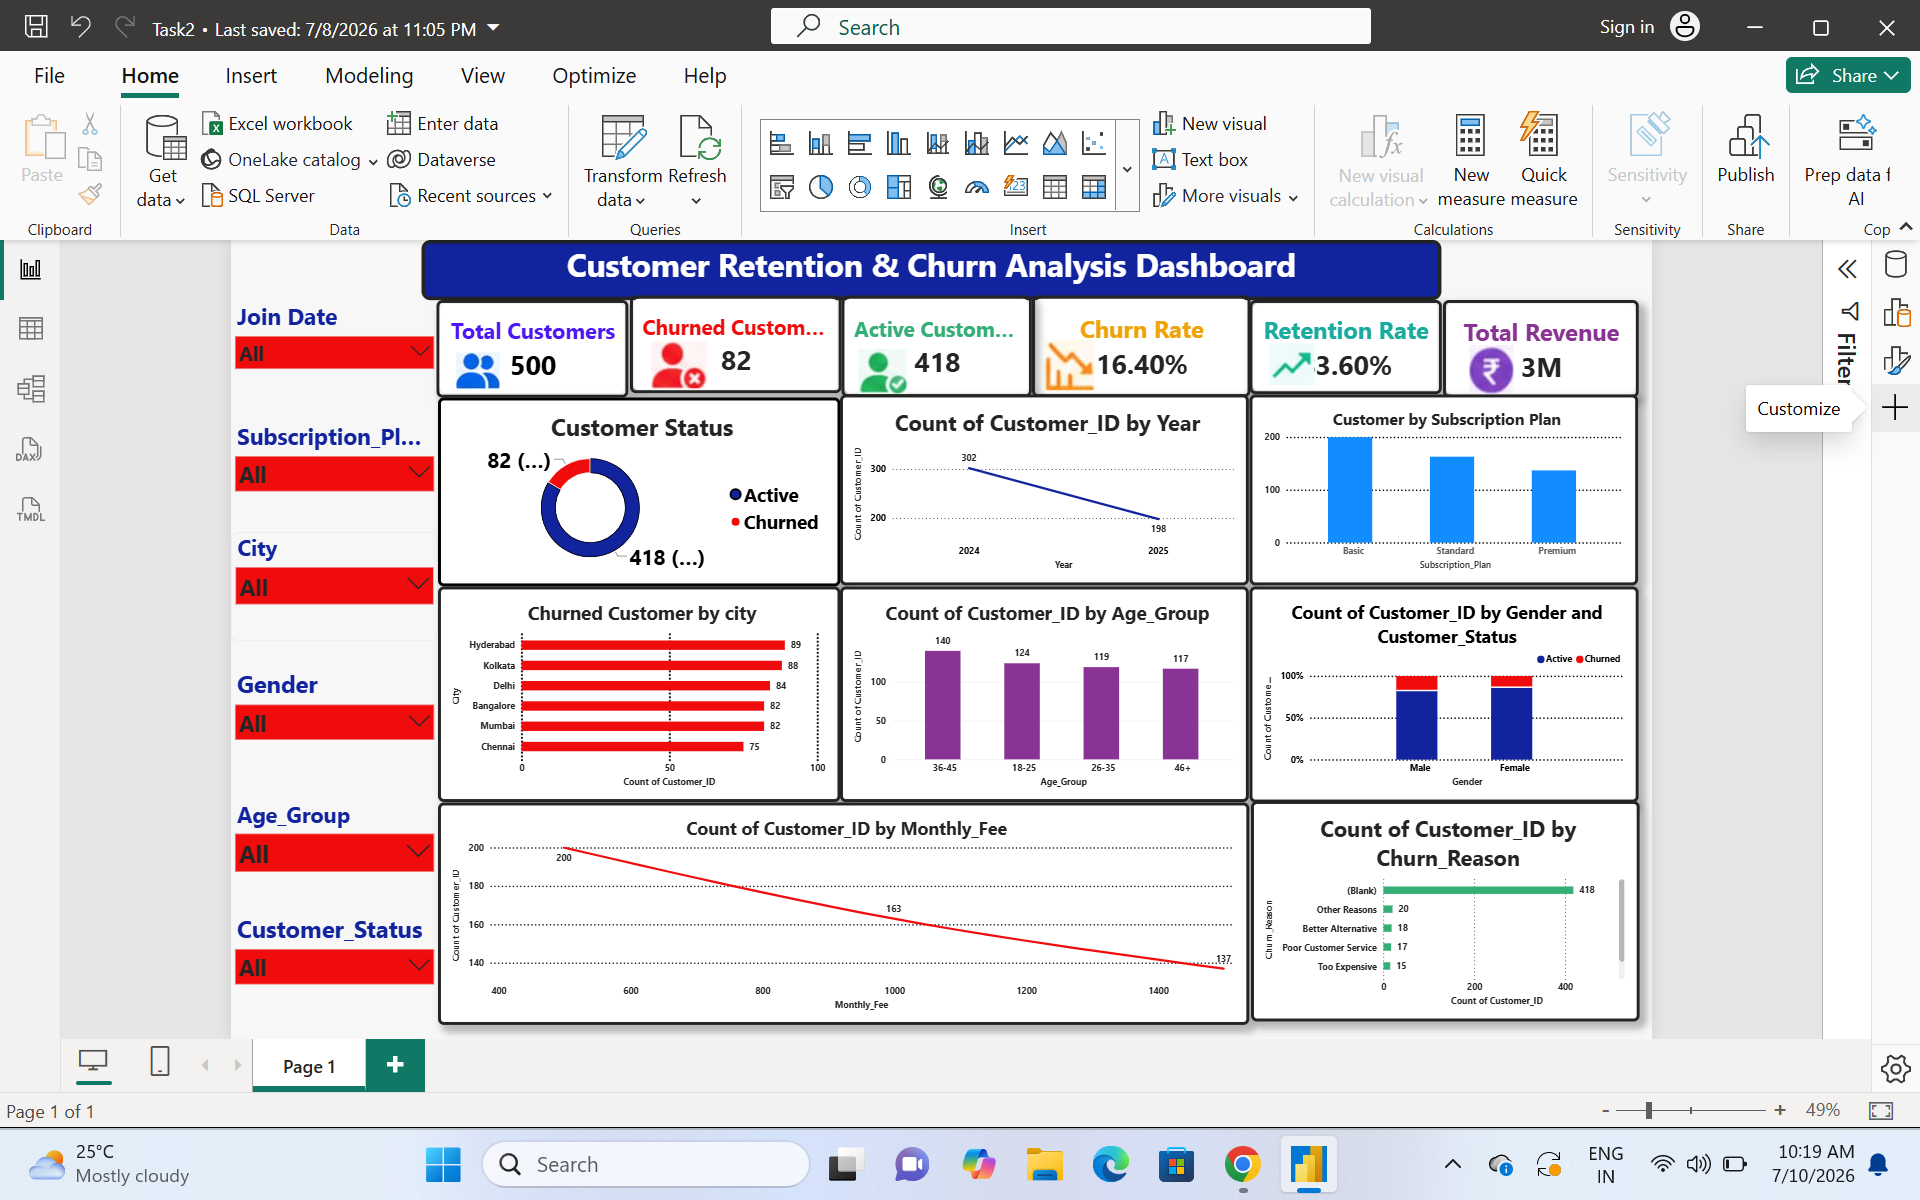

This screenshot's page, from the dashboard's own definition file:
{"tool":"powerbi","page":{"name":"Page 1","canvas":[1920,1080],"ordinal":0},"visuals":[{"type":"textbox","box":[257.5,0,1378.8,81.1],"z":1},{"type":"slicer","fields":{"Values":["CustomerData.Join_Date"]},"box":[0,82,279.5,161],"z":3},{"type":"cardVisual","fields":{"Data":["CustomerData.Total Customers"]},"box":[277.8,81.1,259.5,131.8],"z":4},{"type":"cardVisual","fields":{"Data":["CustomerData.Churned Customers"]},"box":[538.7,75.6,285.9,132.3],"z":5},{"type":"cardVisual","fields":{"Data":["CustomerData.Churn Rate"]},"box":[1082.1,75.6,295.3,137],"z":6},{"type":"cardVisual","fields":{"Data":["CustomerData.Retention Rate"]},"box":[1377.4,80.3,259.9,127.6],"z":7},{"type":"cardVisual","fields":{"Data":["CustomerData.Total Revenue"]},"box":[1637.3,80.3,264.6,132.3],"z":8},{"type":"cardVisual","fields":{"Data":["CustomerData.Active Customers"]},"box":[824.6,75.6,257.5,137],"z":9},{"type":"slicer","fields":{"Values":["CustomerData.Subscription_Plan"]},"box":[0,243,279.5,164.1],"z":10},{"type":"slicer","fields":{"Values":["CustomerData.City"]},"box":[0,394.9,279.5,145.8],"z":11},{"type":"slicer","fields":{"Values":["CustomerData.Gender"]},"box":[0,577.2,279.5,179.2],"z":12},{"type":"slicer","fields":{"Values":["CustomerData.Age_Group"]},"box":[0,756.5,279.5,182.3],"z":13},{"type":"slicer","fields":{"Values":["CustomerData.Customer_Status"]},"box":[0,908.4,279.5,151.9],"z":14},{"type":"donutChart","title":"Customer Status","fields":{"Category":["CustomerData.Customer_Status"],"Y":["CountNonNull(CustomerData.Customer_ID)"]},"box":[279.5,212.7,543.8,255.2],"z":15},{"type":"lineChart","fields":{"Category":["CustomerData.Join_Date.Variation.Date Hierarchy.Year","CustomerData.Join_Date.Variation.Date Hierarchy.Month"],"Y":["CountNonNull(CustomerData.Customer_ID)"]},"box":[823.3,209.6,552.9,258.2],"z":16},{"type":"clusteredColumnChart","title":" Customer by Subscription Plan","fields":{"Category":["CustomerData.Subscription_Plan"],"Y":["CountNonNull(CustomerData.Customer_ID)"]},"box":[1376.2,209.6,525.6,258.2],"z":17},{"type":"clusteredBarChart","title":"Churned Customer by city","fields":{"Category":["CustomerData.City"],"Y":["CountNonNull(CustomerData.Customer_ID)"]},"box":[279.5,467.8,543.8,291.6],"z":18},{"type":"columnChart","fields":{"Category":["CustomerData.Age_Group"],"Y":["CountNonNull(CustomerData.Customer_ID)"]},"box":[823.3,467.8,552.9,291.6],"z":19},{"type":"hundredPercentStackedColumnChart","fields":{"Category":["CustomerData.Gender"],"Series":["CustomerData.Customer_Status"],"Y":["CountNonNull(CustomerData.Customer_ID)"]},"box":[1376,468,526,292],"z":20},{"type":"lineChart","fields":{"Category":["CustomerData.Monthly_Fee"],"Y":["CountNonNull(CustomerData.Customer_ID)"]},"box":[279.5,759.5,1096.7,300.8],"z":21},{"type":"barChart","fields":{"Category":["CustomerData.Churn_Reason"],"Y":["CountNonNull(CustomerData.Customer_ID)"]},"box":[1378.8,758.3,525.1,298.1],"z":22},{"type":"image","box":[304.8,146.5,59.1,61.4],"z":23},{"type":"image","box":[567,129.9,75.6,78],"z":24},{"type":"image","box":[848.2,139.4,66.2,75.6],"z":25},{"type":"image","box":[1098.6,129.9,68.5,78],"z":26},{"type":"image","box":[1403.4,127.6,61.4,80.3],"z":27},{"type":"image","box":[1656.2,141.8,94.5,66.2],"z":28}]}

Visuals, with their boxes on the page's 1920x1080 design canvas (x1, y1, x2, y2). These are canvas units, not pixel positions in the 1920x1200 screenshot, which may show the page scaled, cropped or inside an application window:
textbox: 258 0 1636 81
slicer - CustomerData.Join_Date: 0 82 280 243
cardVisual - CustomerData.Total Customers: 278 81 537 213
cardVisual - CustomerData.Churned Customers: 539 76 825 208
cardVisual - CustomerData.Churn Rate: 1082 76 1377 213
cardVisual - CustomerData.Retention Rate: 1377 80 1637 208
cardVisual - CustomerData.Total Revenue: 1637 80 1902 213
cardVisual - CustomerData.Active Customers: 825 76 1082 213
slicer - CustomerData.Subscription_Plan: 0 243 280 407
slicer - CustomerData.City: 0 395 280 541
slicer - CustomerData.Gender: 0 577 280 756
slicer - CustomerData.Age_Group: 0 756 280 939
slicer - CustomerData.Customer_Status: 0 908 280 1060
"Customer Status" donutChart: 280 213 823 468
lineChart - CustomerData.Join_Date.Variation.Date Hierarchy.Year x CustomerData.Join_Date.Variation.Date Hierarchy.Month: 823 210 1376 468
" Customer by Subscription Plan" clusteredColumnChart: 1376 210 1902 468
"Churned Customer by city" clusteredBarChart: 280 468 823 759
columnChart - CustomerData.Age_Group x CountNonNull(CustomerData.Customer_ID): 823 468 1376 759
hundredPercentStackedColumnChart - CustomerData.Gender x CustomerData.Customer_Status: 1376 468 1902 760
lineChart - CustomerData.Monthly_Fee x CountNonNull(CustomerData.Customer_ID): 280 760 1376 1060
barChart - CustomerData.Churn_Reason x CountNonNull(CustomerData.Customer_ID): 1379 758 1904 1056
image: 305 146 364 208
image: 567 130 643 208
image: 848 139 914 215
image: 1099 130 1167 208
image: 1403 128 1465 208
image: 1656 142 1751 208
